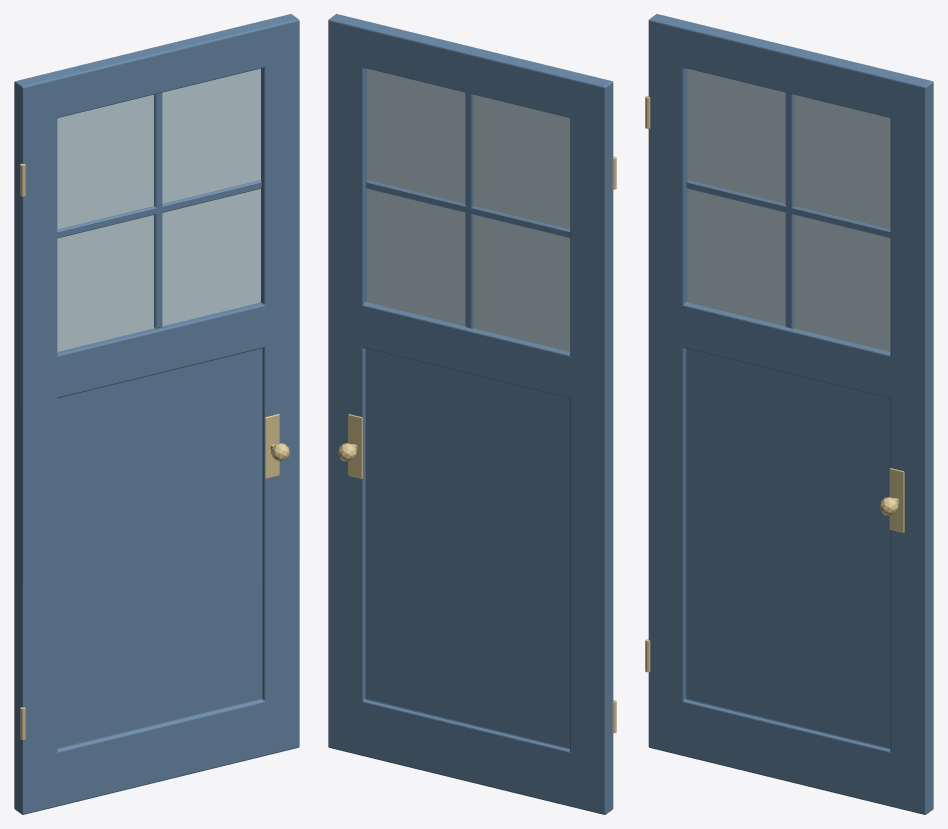
File: door_leaf_front_b.glb
The picture shows the model from 3 angles, left to right: view 1: azimuth 30°, elevation 25°; view 2: azimuth 150°, elevation 25°; view 3: azimuth 330°, elevation 25°; orthographic projection.
Parts seen in each view (by area): view 1: door_leaf_front_b_door_b, door_leaf_front_b_glass, door_leaf_front_b_brass; view 2: door_leaf_front_b_door_b, door_leaf_front_b_glass, door_leaf_front_b_brass; view 3: door_leaf_front_b_door_b, door_leaf_front_b_glass, door_leaf_front_b_brass.
Boxes of the visible parts, left/top/right/bottom form: door_leaf_front_b_door_b: left=14, top=14, right=299, bottom=814; door_leaf_front_b_glass: left=57, top=68, right=260, bottom=351; door_leaf_front_b_brass: left=20, top=163, right=289, bottom=739; door_leaf_front_b_door_b: left=328, top=14, right=613, bottom=814; door_leaf_front_b_glass: left=367, top=68, right=570, bottom=351; door_leaf_front_b_brass: left=338, top=156, right=616, bottom=733; door_leaf_front_b_door_b: left=648, top=14, right=933, bottom=814; door_leaf_front_b_glass: left=687, top=68, right=890, bottom=351; door_leaf_front_b_brass: left=645, top=95, right=904, bottom=672.
Size of the model in its own units: 0.948 by 2.36 by 0.206.
